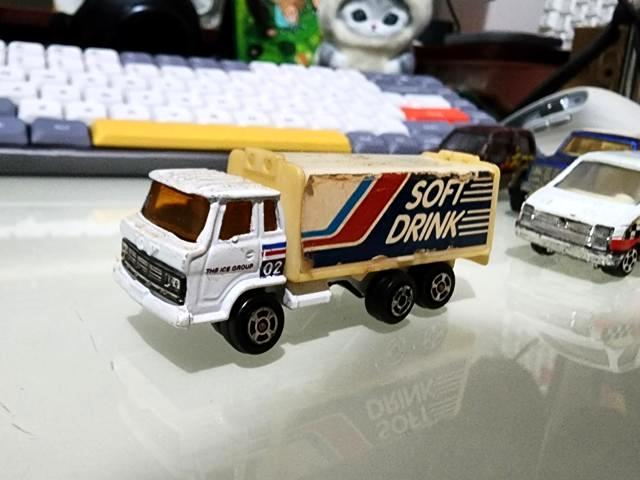toy-car: (111, 147, 501, 357), (514, 149, 640, 280), (518, 127, 640, 198), (430, 124, 538, 190)
